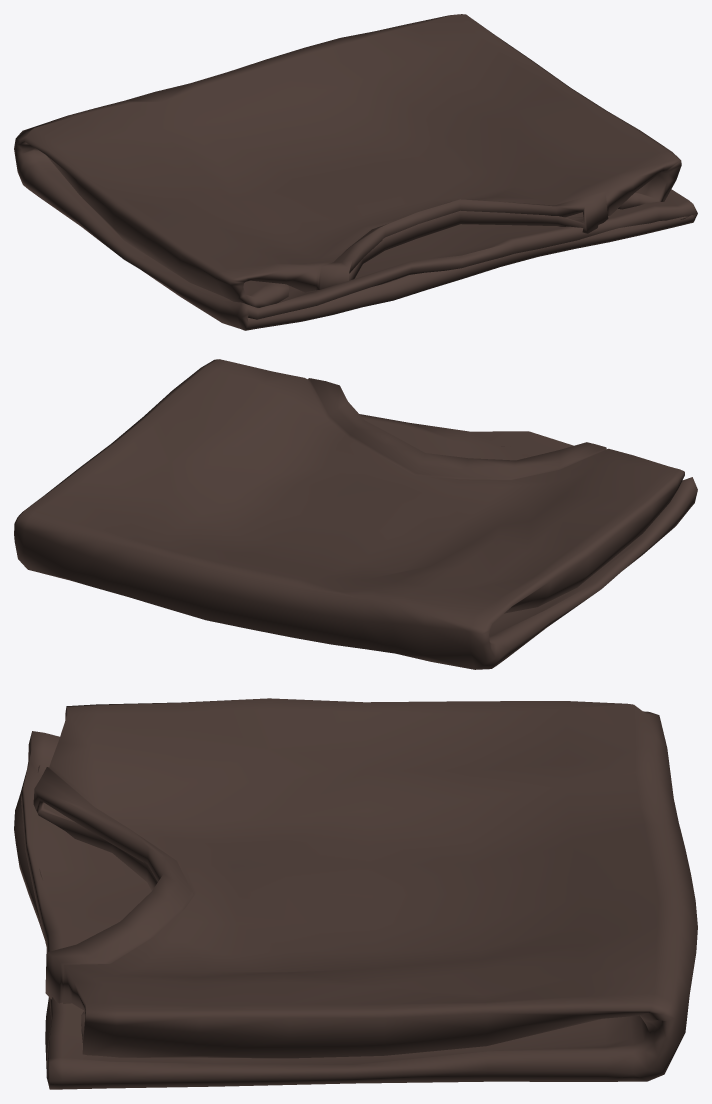
Rendered from Folded_T_Shirt24.fbx.
3 views of the same model, one above another, from view 1: azimuth 30°, elevation 25°; view 2: azimuth 150°, elevation 25°; view 3: azimuth 270°, elevation 25° (orthographic). The views are drawn at different scales.
Visible parts, largest first — view 1: Folded_T_Shirt24; view 2: Folded_T_Shirt24; view 3: Folded_T_Shirt24.
Boxes of the visible parts, x1,y1,x2,y2 form: Folded_T_Shirt24: (14,14,697,330); Folded_T_Shirt24: (14,359,697,669); Folded_T_Shirt24: (14,698,697,1089).
Size of the model in its own units: 36.96 by 4.2 by 32.8.
Materials: 1 (1 with a texture image).
